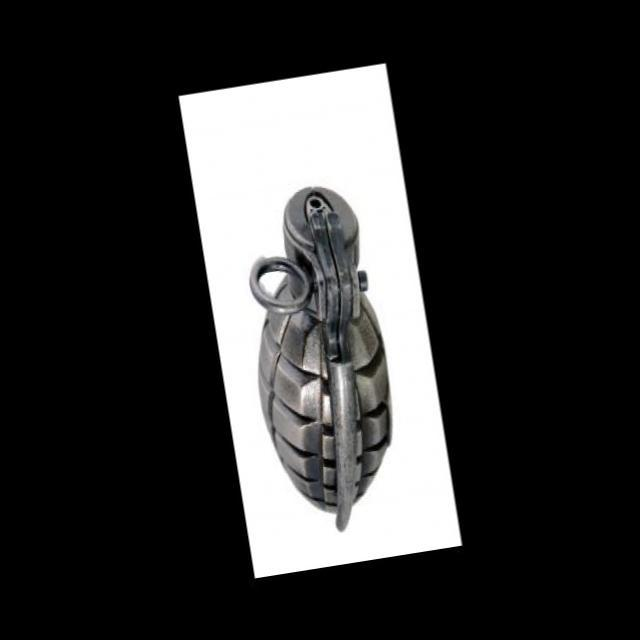grenade: (220, 165, 414, 555)
